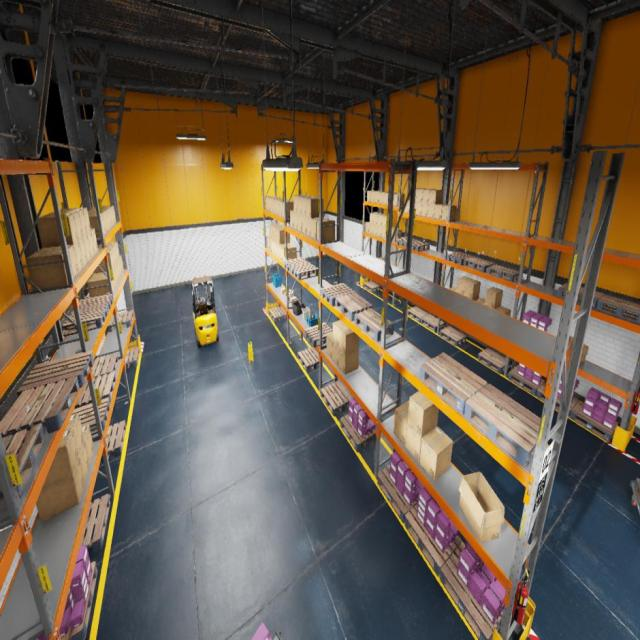box: (459, 472, 504, 542), (36, 457, 85, 521), (42, 428, 79, 489), (419, 426, 453, 482), (26, 250, 71, 290), (35, 245, 79, 278), (37, 214, 78, 248), (408, 392, 438, 437), (406, 423, 436, 463), (44, 212, 83, 240), (51, 209, 88, 237), (60, 208, 90, 234), (66, 412, 84, 454), (394, 400, 409, 447), (566, 336, 588, 365), (339, 326, 360, 355), (87, 276, 112, 298), (338, 348, 359, 374), (94, 250, 115, 274), (82, 424, 94, 464), (91, 272, 115, 292), (88, 209, 110, 229), (90, 208, 112, 228), (317, 218, 335, 242), (79, 440, 89, 482), (88, 211, 108, 232), (98, 244, 119, 264), (332, 320, 347, 347), (92, 207, 114, 225), (88, 212, 105, 235), (311, 217, 328, 240), (98, 246, 116, 267), (99, 242, 120, 260), (485, 286, 502, 308), (95, 206, 116, 223), (306, 197, 323, 218), (464, 279, 481, 299), (456, 276, 472, 296), (302, 196, 317, 217), (74, 241, 84, 272), (89, 215, 100, 238), (294, 195, 308, 213), (441, 205, 456, 221), (298, 196, 311, 214), (79, 238, 87, 266), (84, 234, 92, 262), (279, 200, 292, 217), (280, 243, 293, 260), (277, 228, 290, 245), (283, 245, 297, 260), (434, 204, 448, 219), (429, 190, 443, 204), (422, 189, 435, 204), (91, 228, 98, 254), (282, 201, 293, 217), (276, 199, 287, 215), (272, 224, 283, 240), (274, 226, 284, 242), (495, 306, 511, 316), (88, 231, 94, 257), (416, 189, 428, 202), (271, 198, 282, 212), (268, 197, 279, 211), (266, 196, 277, 210), (269, 224, 280, 238), (332, 341, 338, 366), (327, 332, 332, 359), (382, 215, 393, 227), (393, 194, 404, 206), (392, 228, 402, 241), (114, 264, 120, 284), (274, 198, 282, 213), (370, 212, 380, 224), (374, 191, 384, 203), (379, 191, 388, 204), (306, 217, 312, 236), (371, 191, 381, 202), (373, 213, 382, 225), (428, 204, 435, 219), (112, 268, 117, 288), (386, 227, 395, 238), (378, 214, 386, 226), (388, 193, 396, 204), (367, 190, 375, 201), (422, 203, 428, 217), (416, 202, 422, 216), (404, 200, 410, 214), (416, 188, 422, 201), (117, 261, 121, 280), (120, 255, 124, 274), (302, 215, 306, 234), (118, 259, 122, 276), (298, 215, 302, 232), (294, 213, 298, 230), (485, 305, 500, 309), (475, 298, 485, 304), (381, 226, 386, 238), (383, 192, 388, 204), (290, 210, 293, 228), (290, 296, 297, 303), (277, 242, 280, 258), (274, 240, 277, 256), (466, 296, 478, 300), (377, 226, 381, 237), (369, 223, 373, 234), (366, 222, 370, 233), (272, 239, 275, 253), (373, 225, 377, 235), (286, 295, 293, 300), (449, 287, 456, 292), (288, 290, 293, 296), (268, 236, 270, 249), (281, 288, 285, 294), (270, 238, 272, 250), (415, 202, 416, 208)
forklift: (192, 275, 218, 347)
pallets: (464, 383, 540, 467), (440, 542, 504, 639), (0, 376, 80, 442), (35, 561, 97, 639), (404, 503, 461, 577), (420, 353, 488, 413), (17, 350, 94, 400), (0, 423, 45, 498), (378, 464, 418, 523), (570, 401, 618, 443), (80, 493, 110, 552), (536, 381, 578, 417), (75, 372, 116, 408), (72, 397, 110, 435), (62, 305, 108, 336), (93, 420, 126, 463), (340, 414, 376, 452), (596, 294, 640, 323), (355, 309, 394, 341), (557, 282, 605, 308), (508, 365, 545, 396), (321, 381, 351, 416), (335, 292, 372, 320), (86, 354, 118, 384), (321, 282, 355, 306), (478, 348, 510, 373), (72, 294, 113, 313), (305, 323, 332, 347), (298, 347, 322, 372), (107, 310, 133, 332), (488, 265, 520, 282), (439, 326, 466, 346), (464, 256, 495, 272), (291, 263, 318, 280), (420, 315, 444, 332), (283, 258, 309, 272), (447, 252, 474, 265), (408, 306, 429, 322), (125, 347, 140, 369), (269, 306, 287, 322), (412, 240, 430, 252), (397, 237, 418, 247), (364, 281, 381, 292), (634, 478, 640, 507)
